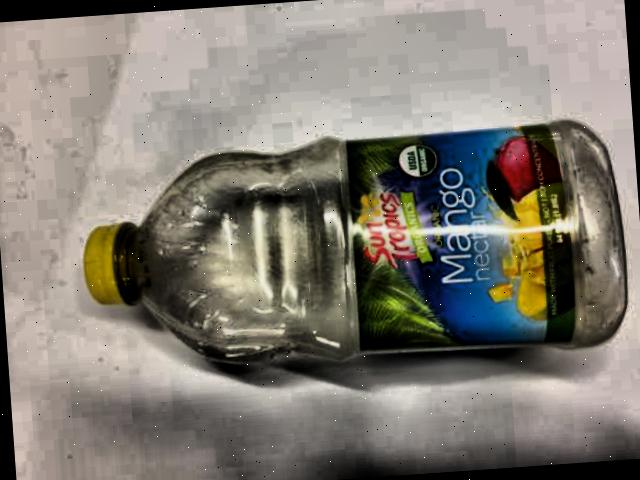Plastic: (44, 85, 640, 418)
